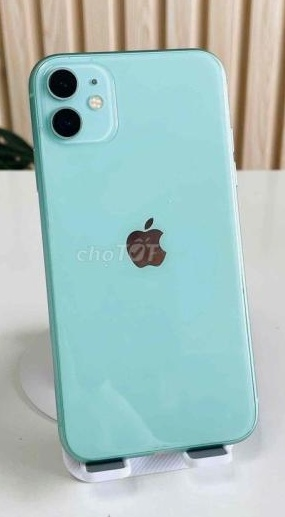scratch: (62, 52, 94, 64), (207, 56, 225, 75)
